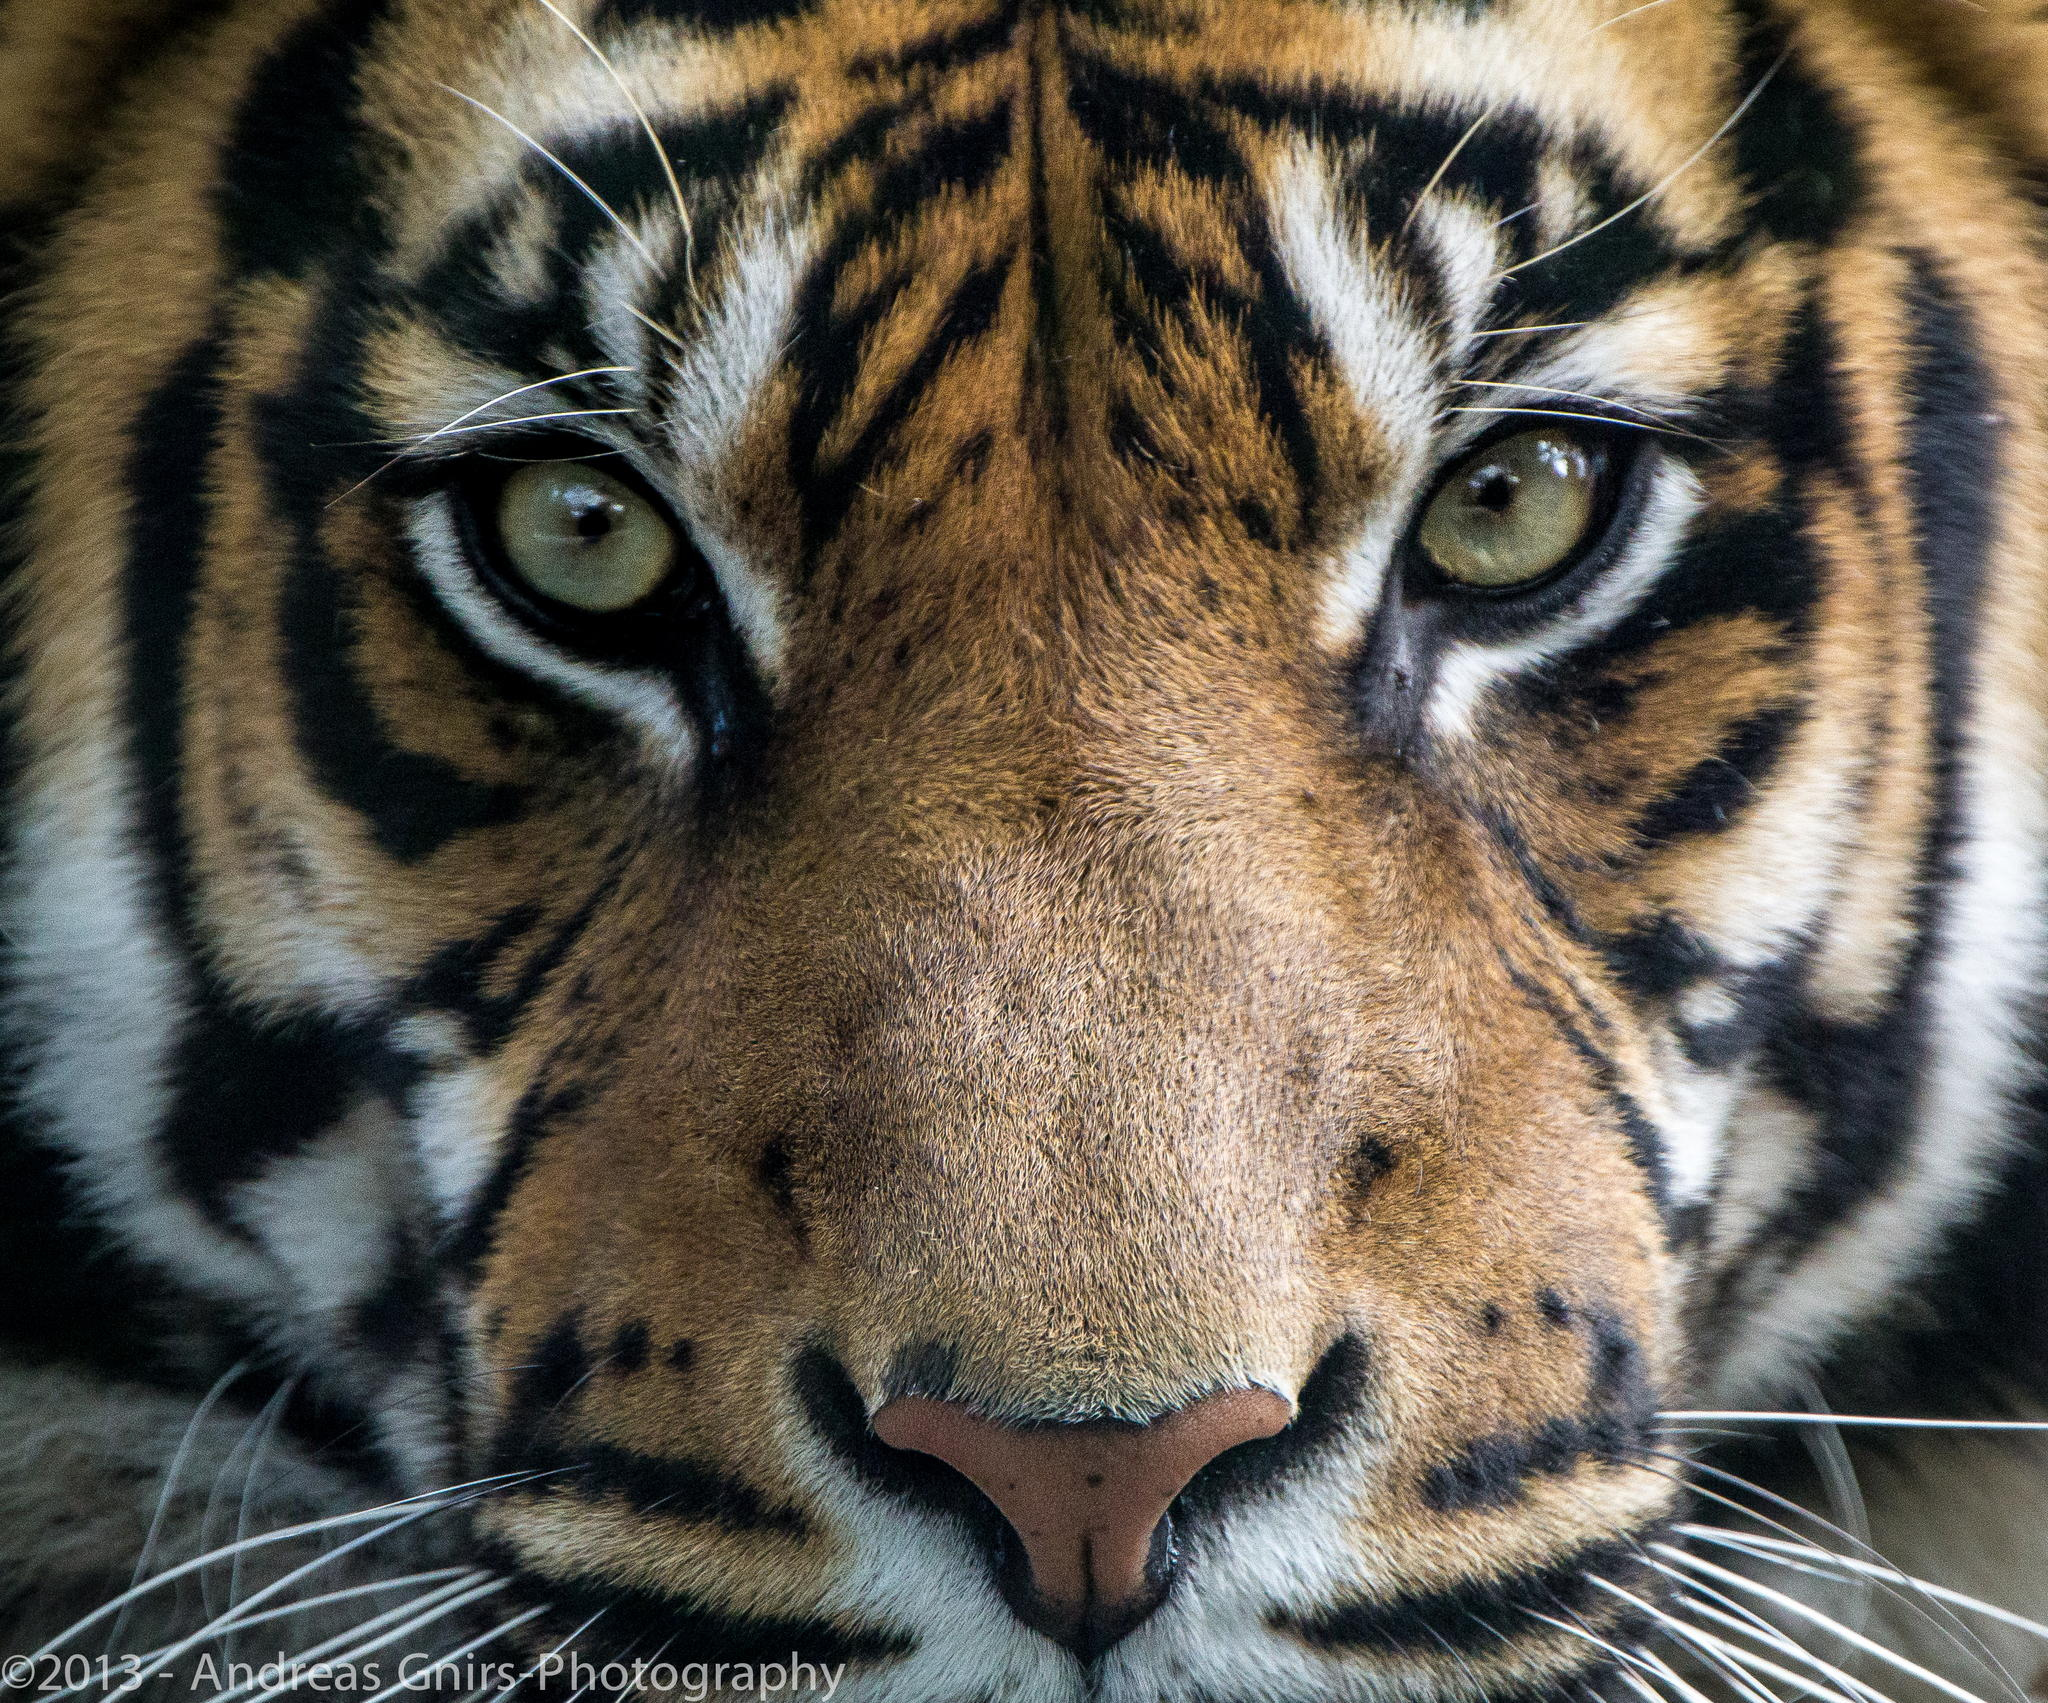tiger: (94, 73, 1971, 1632)
